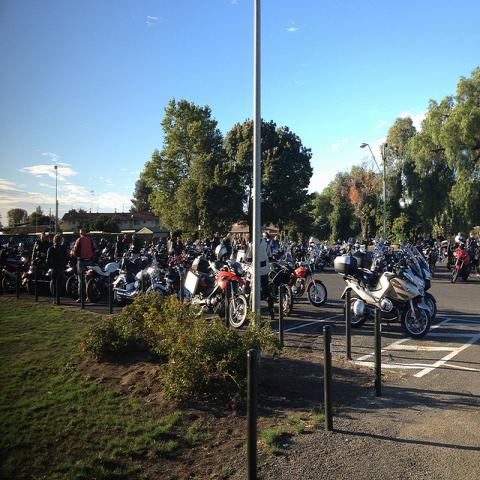motorcycle: (334, 246, 432, 338), (182, 254, 248, 329), (314, 236, 408, 273), (112, 267, 167, 306), (412, 244, 438, 320), (86, 256, 126, 303), (268, 259, 298, 317), (291, 258, 327, 306), (66, 254, 93, 311), (154, 261, 186, 301), (452, 245, 476, 284), (446, 238, 459, 270), (292, 244, 307, 260)
